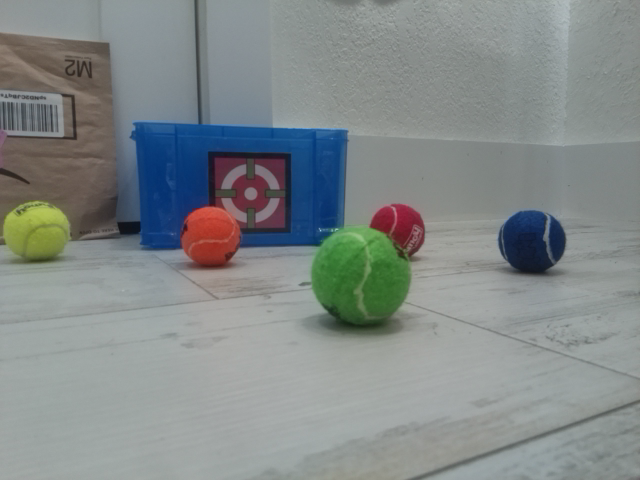blue-ball: (497, 209, 567, 275)
drop-bin: (207, 151, 292, 234)
green-ball: (310, 224, 412, 328)
orange-ball: (180, 205, 241, 268)
red-ball: (369, 203, 426, 259)
yellow-ball: (2, 199, 71, 263)
